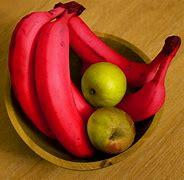apple: (86, 108, 134, 157), (80, 61, 126, 109)
banana: (4, 0, 80, 153), (122, 36, 184, 117)
